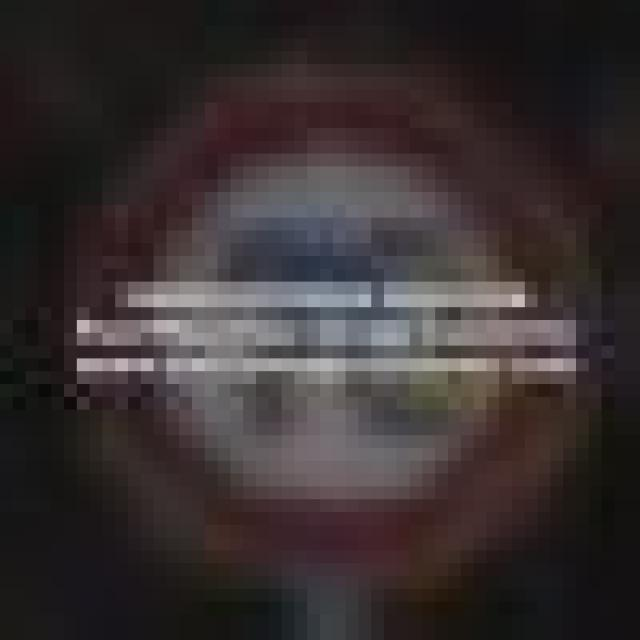SPEED_LIMIT_70: (51, 51, 576, 563)
